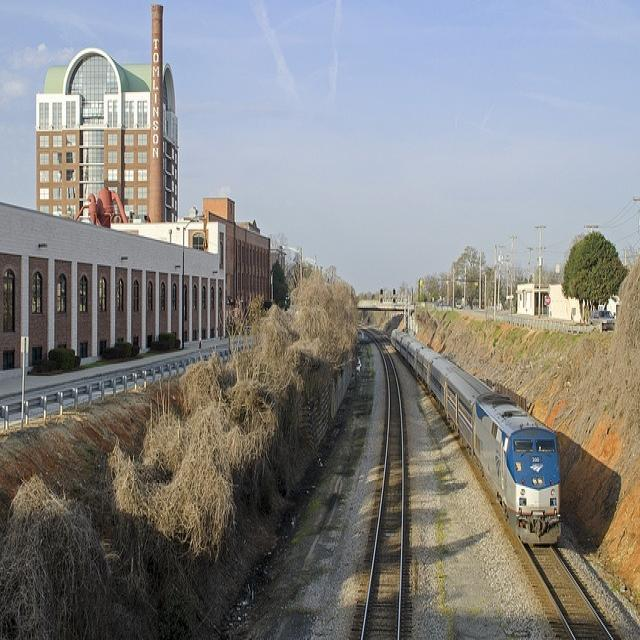car: (588, 308, 614, 329)
